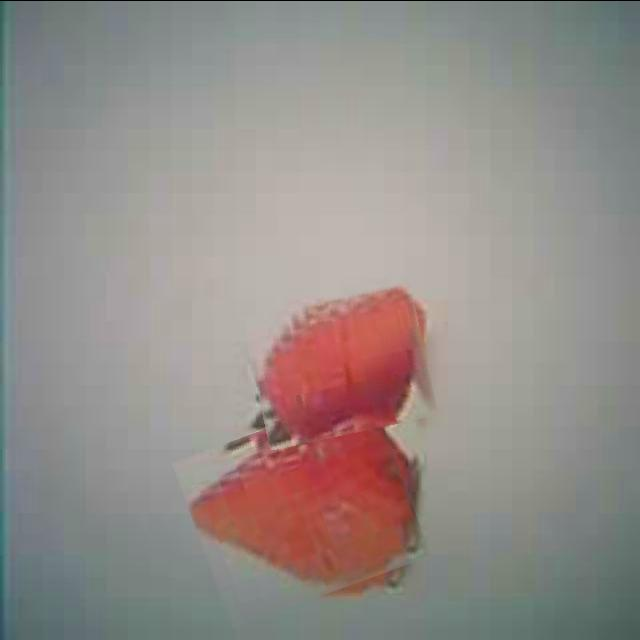strawberry: (184, 406, 420, 612), (248, 288, 432, 441)
